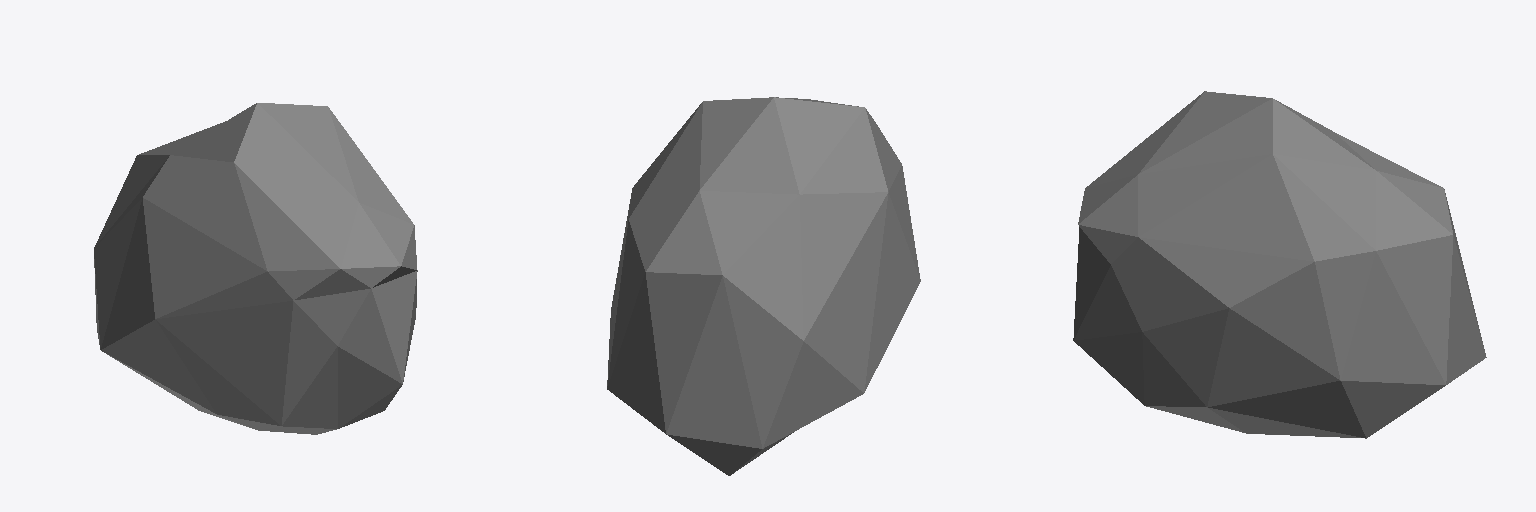
3 views of the same model, side by side, from view 1: azimuth 30°, elevation 25°; view 2: azimuth 150°, elevation 25°; view 3: azimuth 270°, elevation 25° (orthographic).
Parts seen in each view (by area): view 1: Rock_Icosphere; view 2: Rock_Icosphere; view 3: Rock_Icosphere.
Boxes of the visible parts, x1=… form: Rock_Icosphere: x1=94, y1=103, x2=417, y2=434; Rock_Icosphere: x1=607, y1=97, x2=920, y2=475; Rock_Icosphere: x1=1073, y1=91, x2=1486, y2=438.
Bounding box in the file's own units: 2.88 × 3.4 × 4.07.
1 materials, 1 textured.